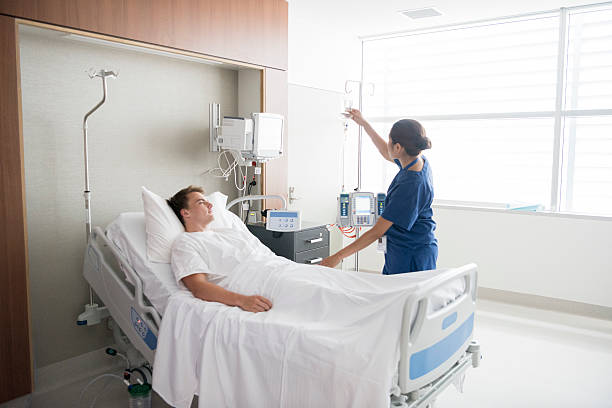bedrail: (80, 225, 162, 359)
bedside_monitor: (255, 111, 285, 159)
bedside_table: (244, 222, 334, 265)
foot_board: (397, 263, 480, 396)
handle: (308, 255, 323, 263), (308, 235, 323, 243)
hospital_bed: (82, 188, 482, 408)
infusion_pump: (336, 186, 386, 228)
iv_pole: (81, 64, 123, 235), (338, 77, 377, 184)
patient: (167, 187, 400, 312)
staff: (318, 116, 438, 276)
